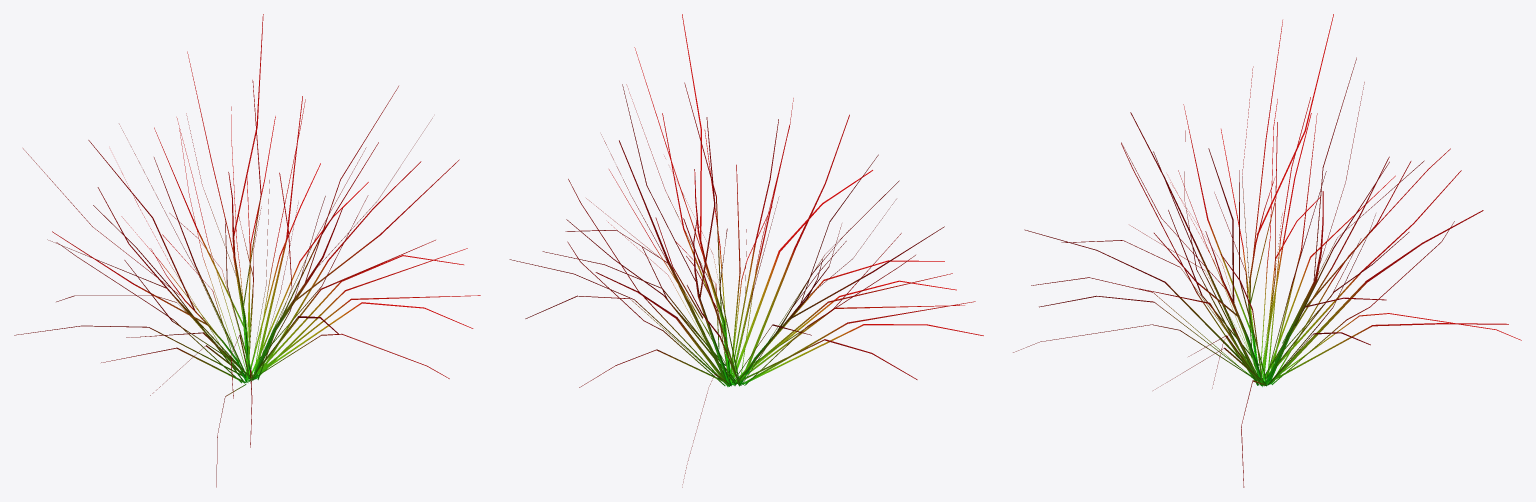
File: Xeric Grass_LOD2_Var2_xjfgdhaqx.fbx
The picture shows the model from 3 angles, left to right: view 1: azimuth 30°, elevation 25°; view 2: azimuth 150°, elevation 25°; view 3: azimuth 270°, elevation 25°; orthographic projection. The views are drawn at different scales.
Visible parts, largest first — view 1: _pdyx_Var2_LOD2; view 2: _pdyx_Var2_LOD2; view 3: _pdyx_Var2_LOD2.
Boxes of the visible parts, bbox=[...] form: _pdyx_Var2_LOD2: bbox=[14, 14, 480, 487]; _pdyx_Var2_LOD2: bbox=[509, 14, 983, 487]; _pdyx_Var2_LOD2: bbox=[1013, 14, 1521, 487].
Size of the model in its own units: 155 by 111 by 153.
